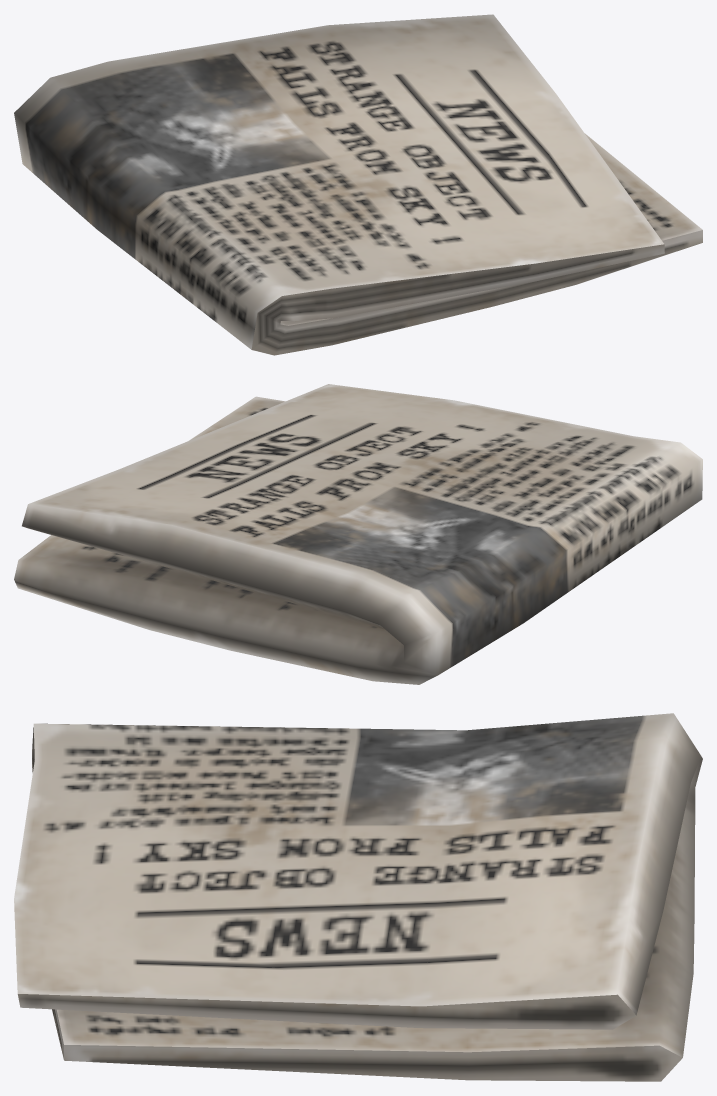
File: newspaper_A.fbx
3 views of the same model, one above another, from view 1: azimuth 30°, elevation 25°; view 2: azimuth 150°, elevation 25°; view 3: azimuth 270°, elevation 25° (orthographic). The views are drawn at different scales.
Visible parts, largest first — view 1: newspaper_A; view 2: newspaper_A; view 3: newspaper_A.
Boxes of the visible parts, left/top/right/bottom form: newspaper_A: left=14, top=14, right=702, bottom=355; newspaper_A: left=14, top=384, right=702, bottom=684; newspaper_A: left=14, top=713, right=702, bottom=1081.
Size of the model in its own units: 33.05 by 7.56 by 33.54.
